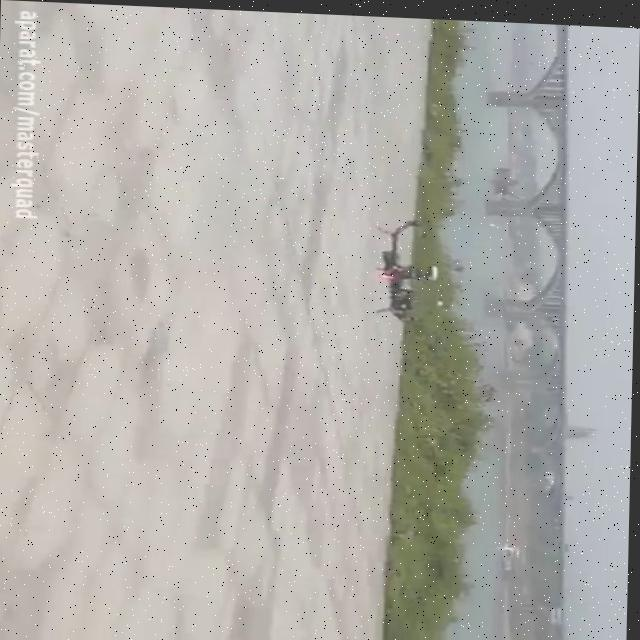drone: (366, 210, 450, 323)
